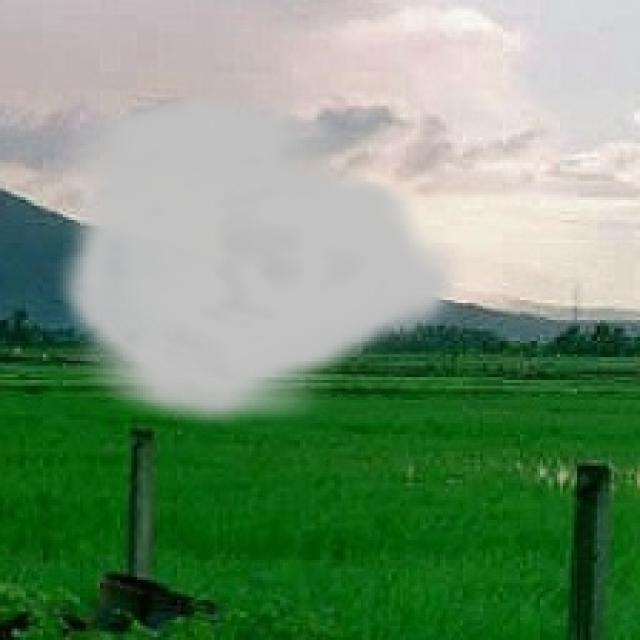smoke: (54, 92, 466, 434)
